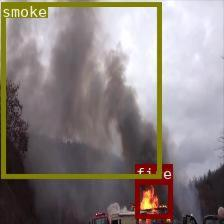fire: (135, 180, 171, 218)
smoke: (1, 2, 161, 178)
